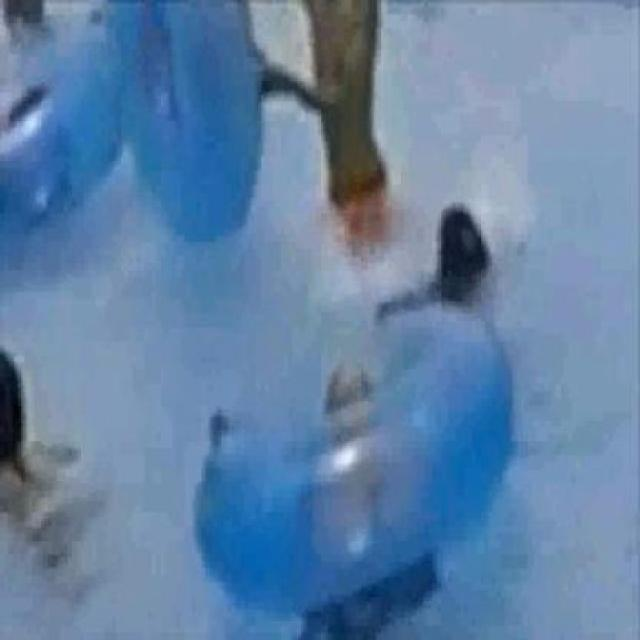drowning: (0, 334, 62, 552), (407, 197, 507, 320)
